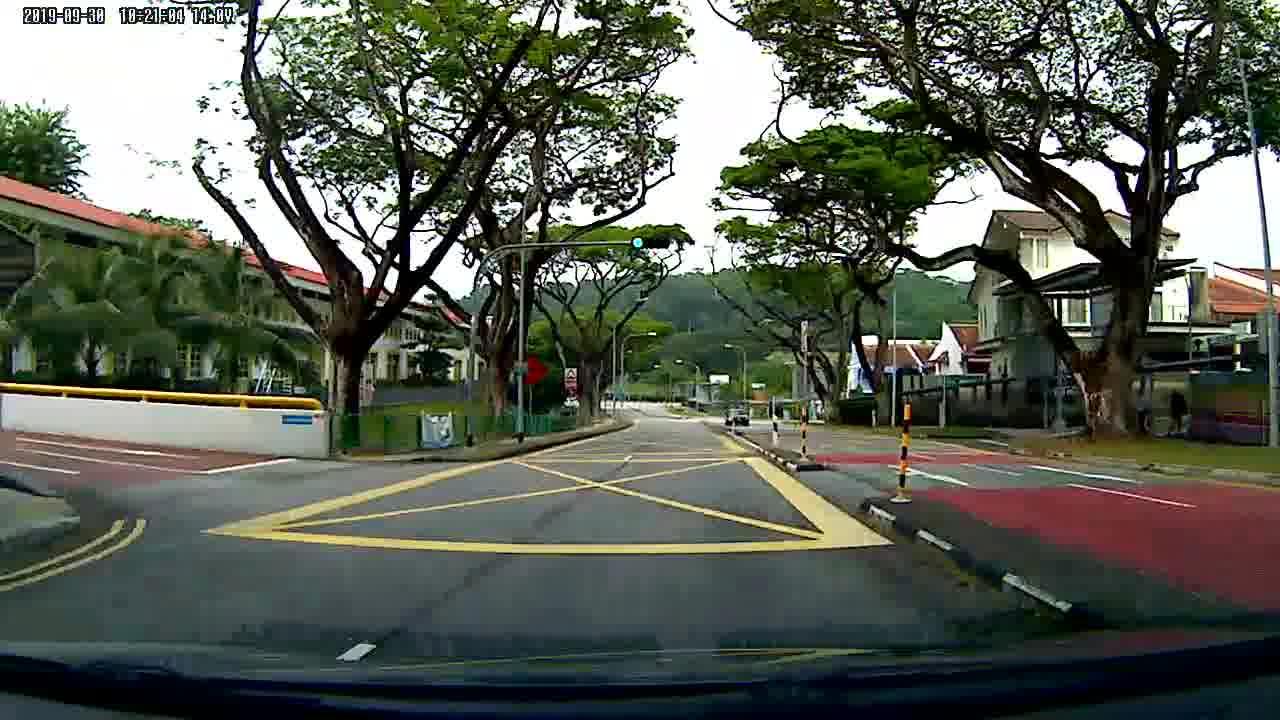car: (721, 407, 751, 429)
